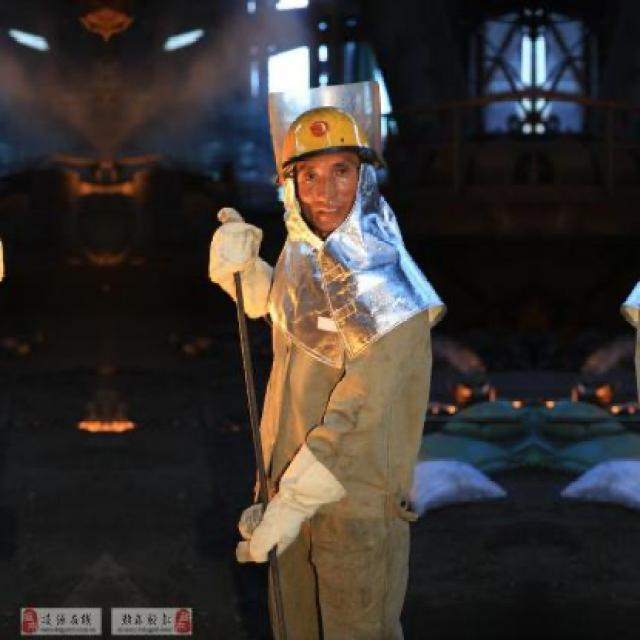helmet: (267, 78, 381, 235)
